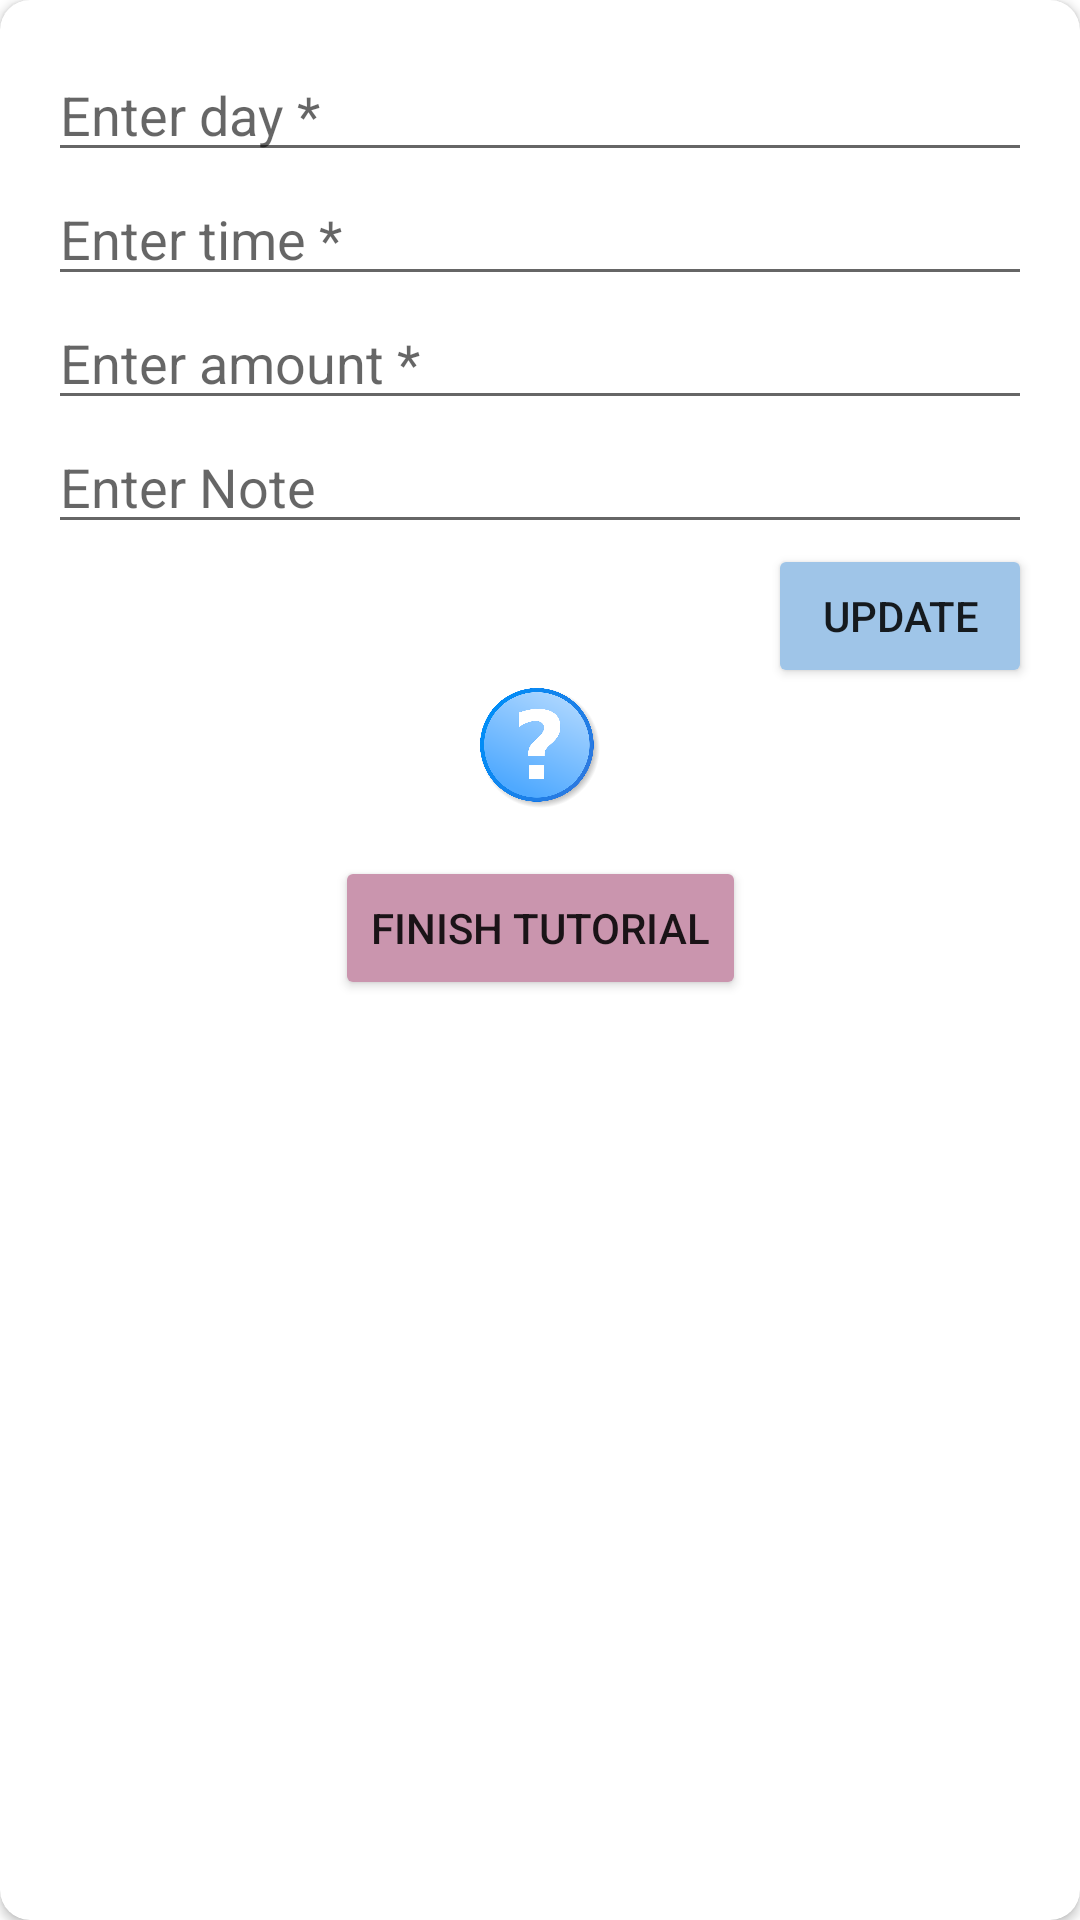

Where to tap for icons on this 1080px x 1920px app screen, as (x=x, y=y):
question mark: (x=538, y=746)
